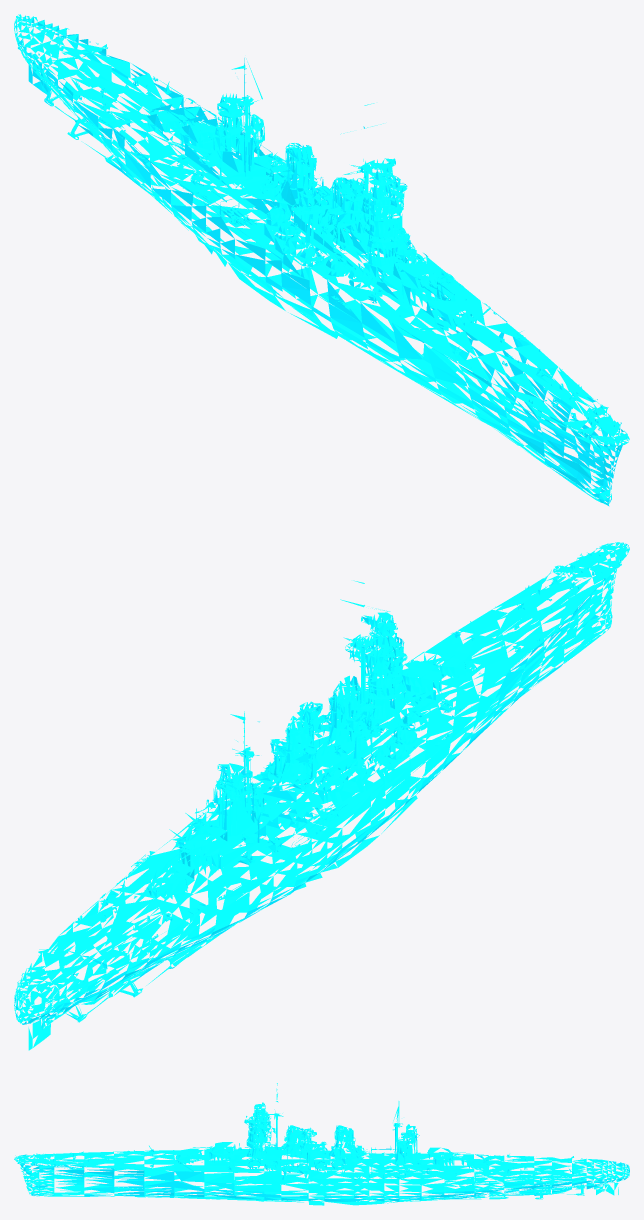
The model's file is Brindisi.glb.
The picture shows the model from 3 angles, top to bottom: view 1: azimuth 30°, elevation 25°; view 2: azimuth 150°, elevation 25°; view 3: azimuth 270°, elevation 25°; orthographic projection. The views are drawn at different scales.
Size of the model in its own units: 1.63 by 3.13 by 15.34.
